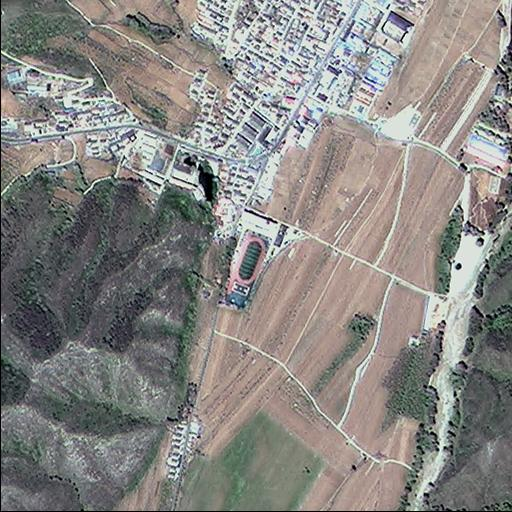school: (219, 210, 289, 312)
